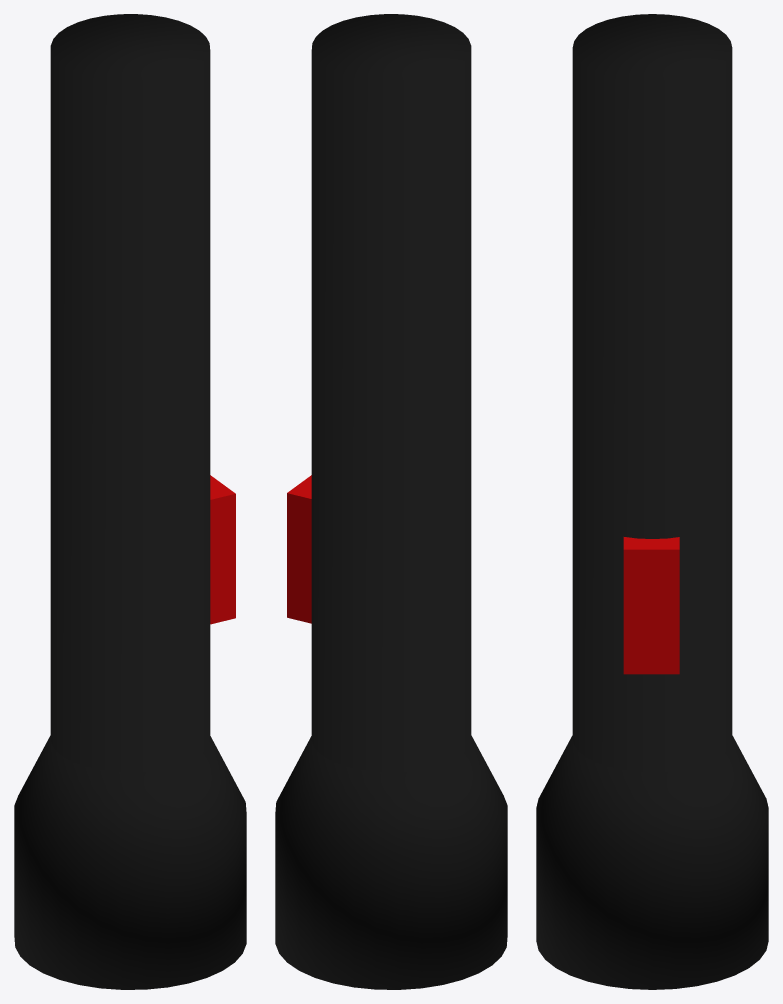
File: Flashlight.fbx
3 renders of one model, left to right at view 1: azimuth 30°, elevation 25°; view 2: azimuth 150°, elevation 25°; view 3: azimuth 270°, elevation 25°, orthographic.
Visible parts, largest first — view 1: Cylinder, Cube; view 2: Cylinder, Cube; view 3: Cylinder, Cube.
Part boxes in pixels (x1,y1,x2,y2): Cylinder: [14, 14, 246, 989]; Cube: [210, 475, 235, 624]; Cylinder: [275, 14, 507, 989]; Cube: [287, 475, 311, 623]; Cylinder: [536, 14, 768, 989]; Cube: [623, 537, 679, 674].
Size of the model in its own units: 200 by 848 by 200.
